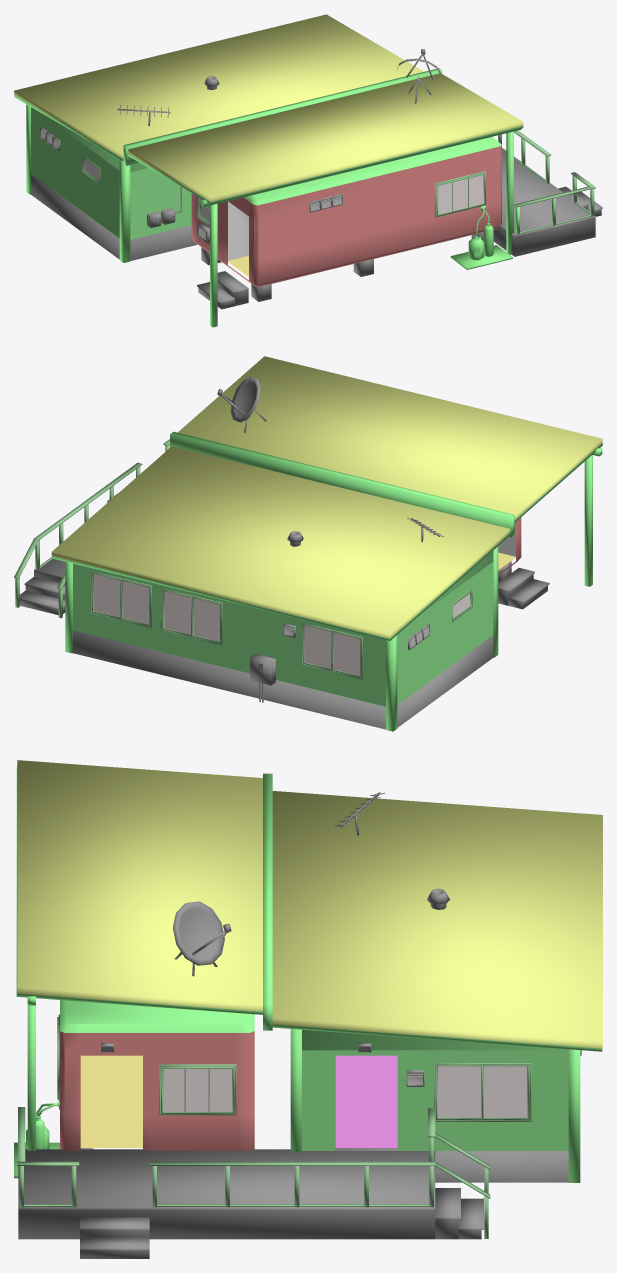
File: SM_buildingTrailerHouse_01.gltf
The picture shows the model from 3 angles, top to bottom: view 1: azimuth 30°, elevation 25°; view 2: azimuth 150°, elevation 25°; view 3: azimuth 270°, elevation 25°; orthographic projection. The views are drawn at different scales.
Parts seen in each view (by area): view 1: SM_buildingTrailerHouse_01; view 2: SM_buildingTrailerHouse_01; view 3: SM_buildingTrailerHouse_01.
Part boxes in pixels (x1=…): SM_buildingTrailerHouse_01: x1=14, y1=14, x2=602, y2=327; SM_buildingTrailerHouse_01: x1=14, y1=356, x2=602, y2=731; SM_buildingTrailerHouse_01: x1=14, y1=760, x2=602, y2=1258.
Bounding box in the file's own units: 15.46 × 5.99 × 12.71.
